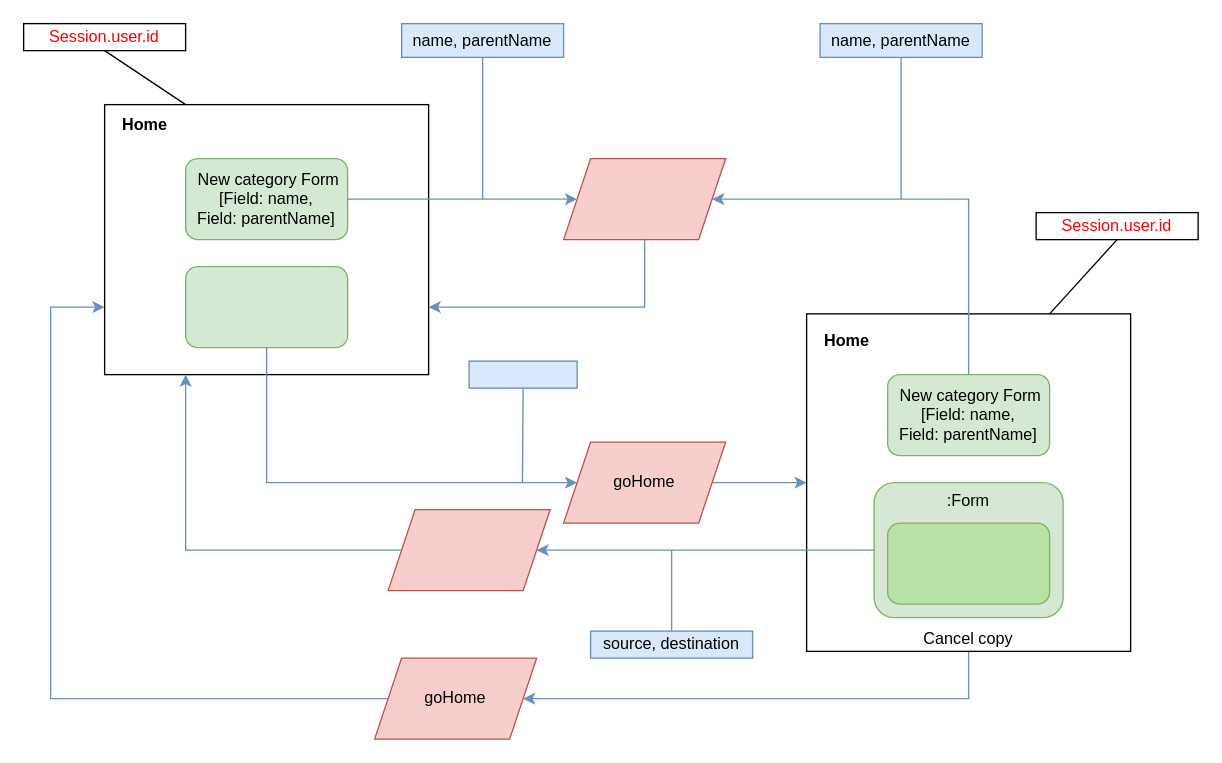
The diagram is 1222 pixels wide and 763 high, and some of its shapes have lost their labels. Here are the shapes that lost their labels. From the top down, the box of each, then its label:
(562, 157, 726, 240): createCategory
(184, 265, 348, 348): :List [data: category, link: "copy"]
(468, 360, 577, 388): source
(387, 508, 550, 591): doCopy
(886, 522, 1050, 604): :List [data: category, button: "Copy here"]
